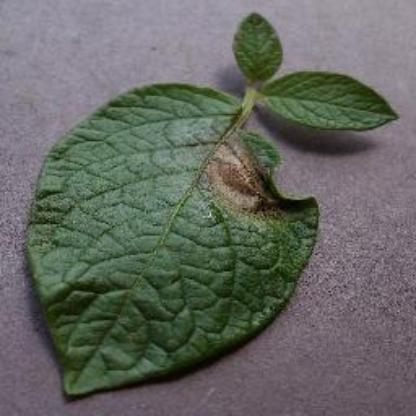Late-Blight: (24, 15, 400, 395)
